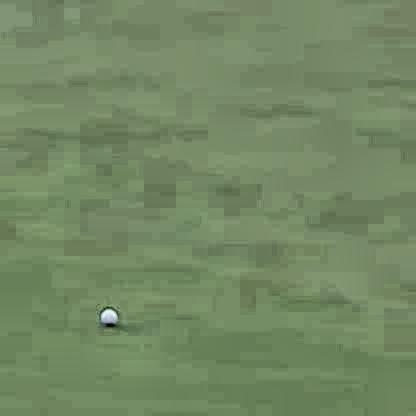golfball: (96, 303, 115, 325)
